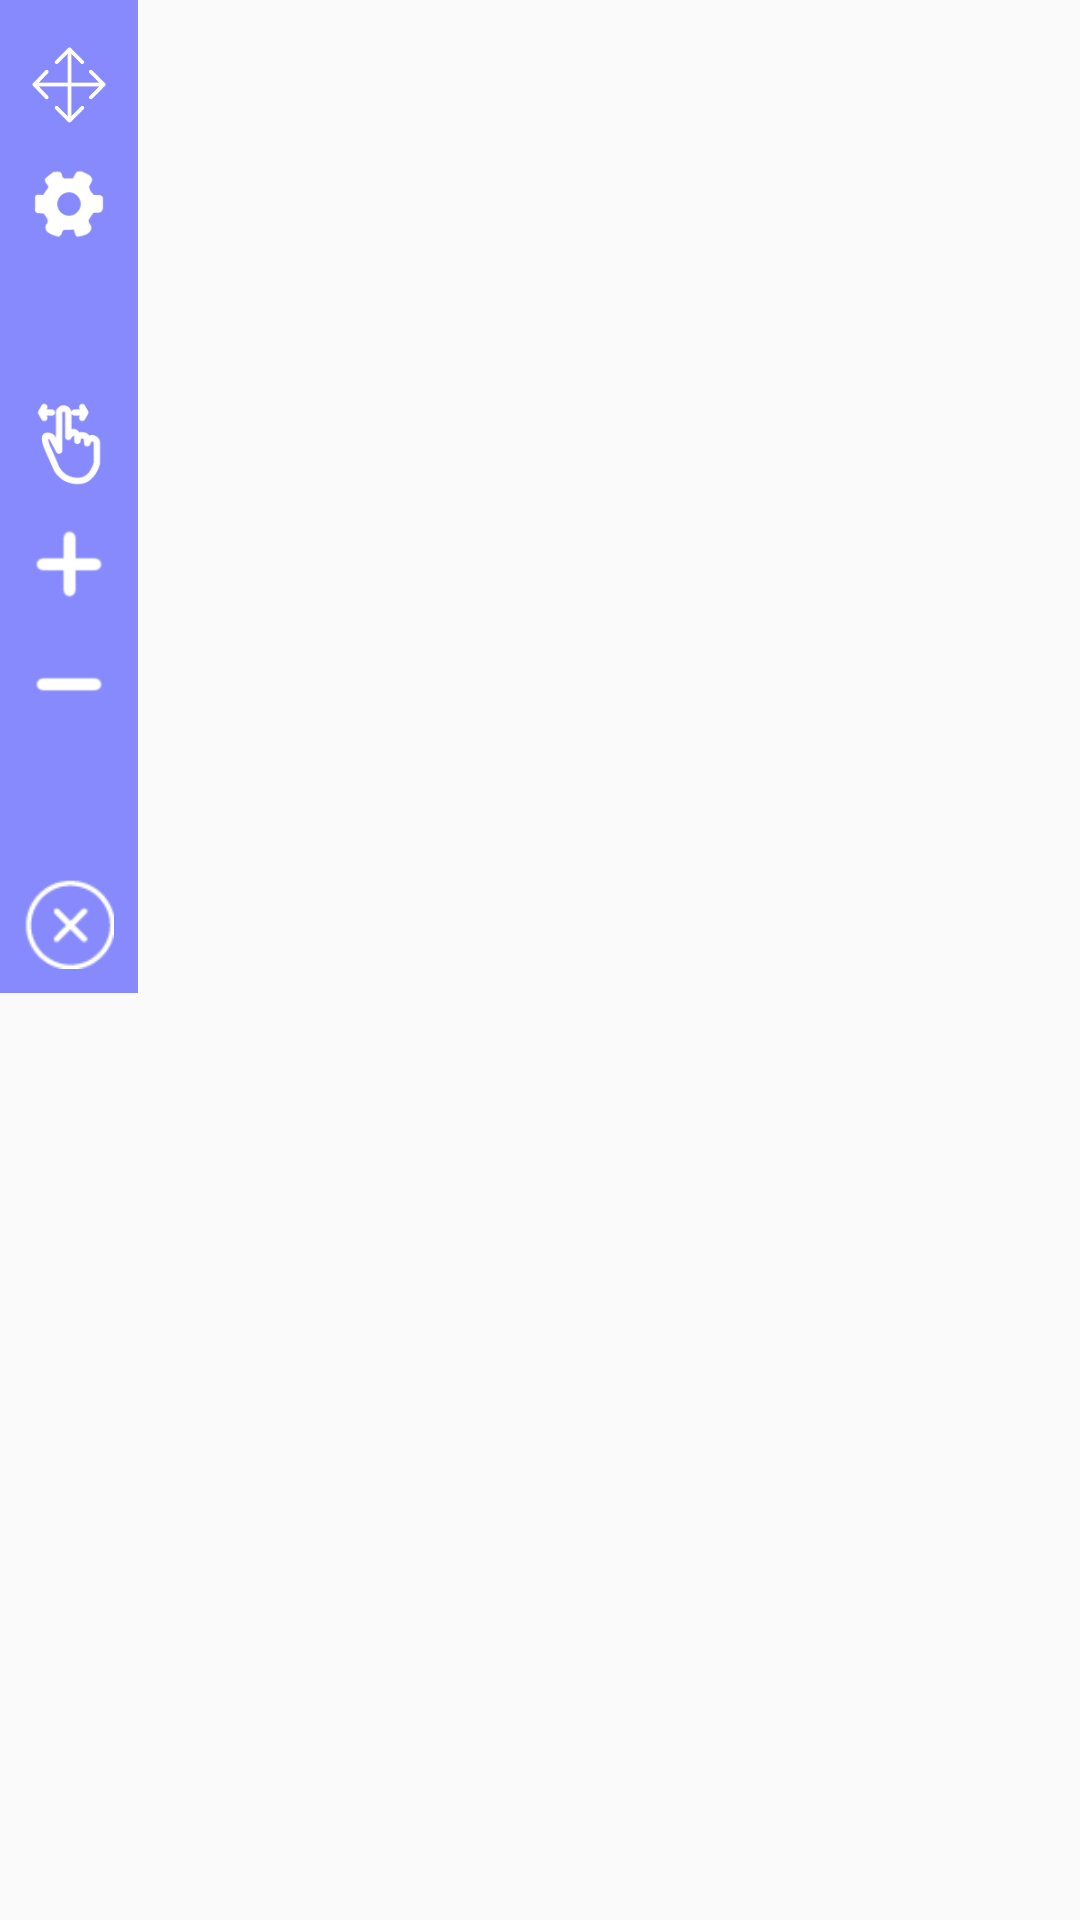

Screen size 1080w x 1920h. Icon name, then its center in pixels as (x=x, y=y):
close: (x=69, y=924)
move: (x=69, y=85)
swipe: (x=69, y=444)
target add: (x=69, y=564)
target remove: (x=69, y=684)
